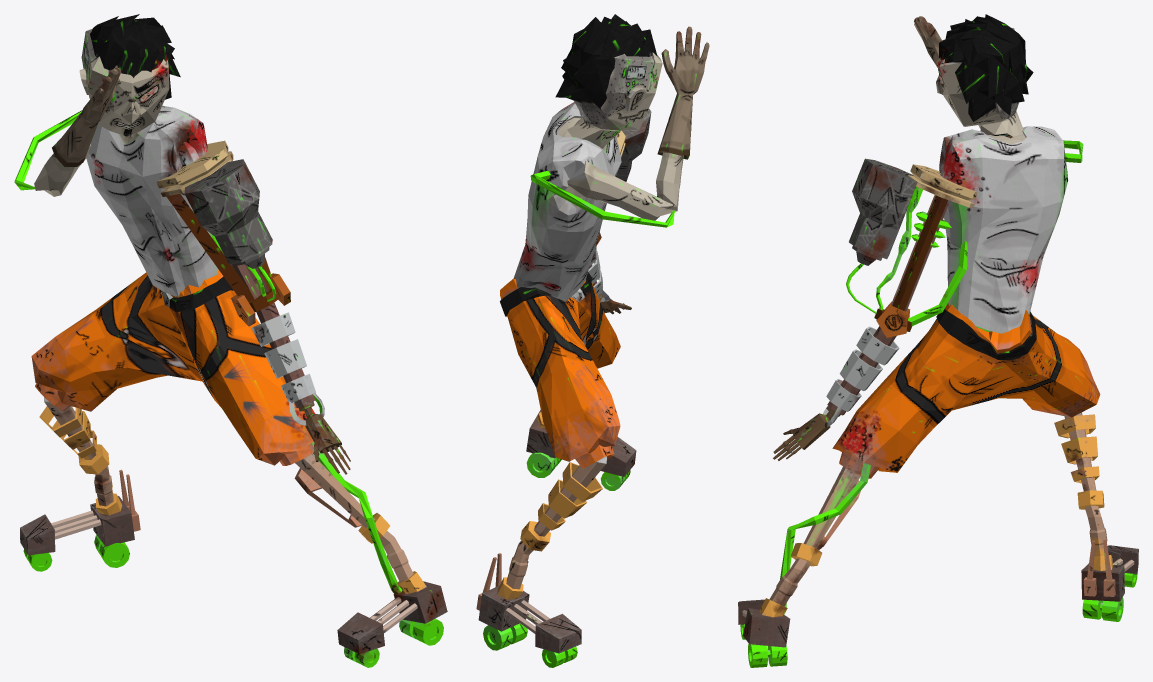
File: CyborgFINALAnimation_000062.obj
3 views of the same model, side by side, from view 1: azimuth 30°, elevation 25°; view 2: azimuth 150°, elevation 25°; view 3: azimuth 270°, elevation 25° (orthographic). The views are drawn at different scales.
Parts seen in each view (by area): view 1: CyborgMesh_Cube.002; view 2: CyborgMesh_Cube.002; view 3: CyborgMesh_Cube.002.
Part boxes in pixels (x1,y1,x2,y2): CyborgMesh_Cube.002: [14, 14, 447, 667]; CyborgMesh_Cube.002: [476, 14, 709, 667]; CyborgMesh_Cube.002: [738, 14, 1138, 667].
Size of the model in its own units: 4.24 by 8.63 by 5.44.
